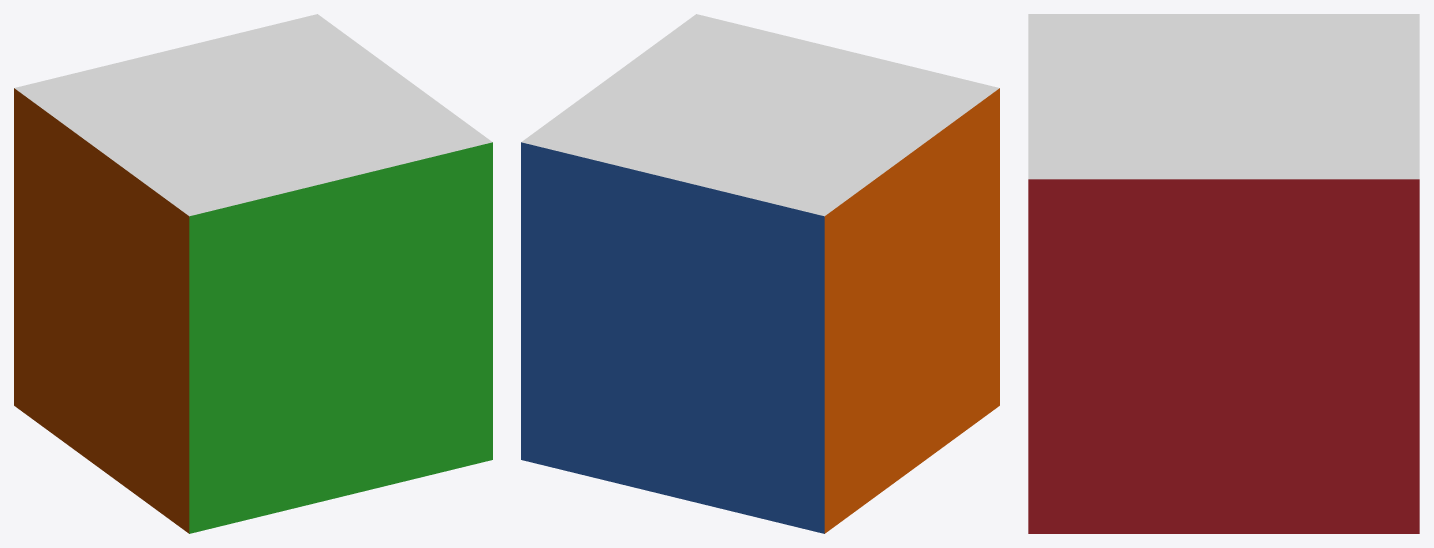
File: rubiks_cube.gltf
The picture shows the model from 3 angles, left to right: view 1: azimuth 30°, elevation 25°; view 2: azimuth 150°, elevation 25°; view 3: azimuth 270°, elevation 25°; orthographic projection. The views are drawn at different scales.
Visible parts, largest first — view 1: Cube.023; view 2: Cube.023; view 3: Cube.023.
Part boxes in pixels (<box>): Cube.023: <box>14,14,492,533</box>; Cube.023: <box>521,14,999,533</box>; Cube.023: <box>1028,14,1419,533</box>.
Size of the model in its own units: 6 by 6 by 6.
